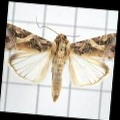Spodoptera litura: (4, 17, 114, 103)
